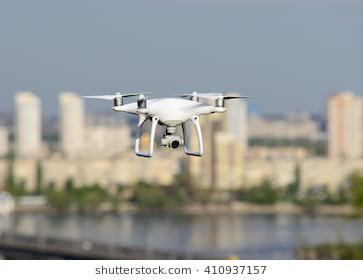drone: (82, 92, 250, 160)
